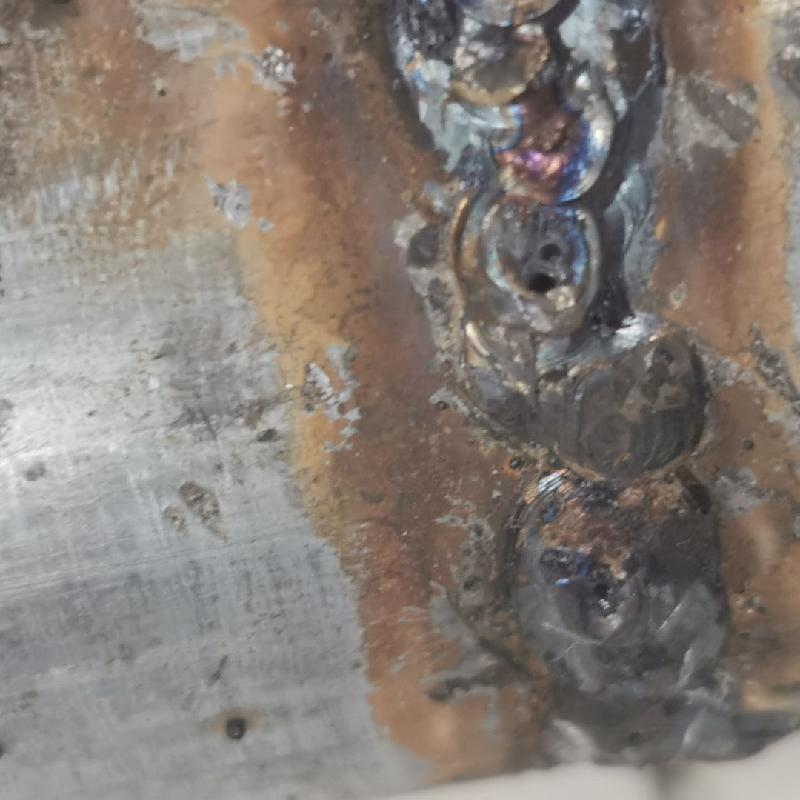Surface_pores: (513, 233, 577, 296), (564, 557, 630, 615)
crater: (383, 0, 648, 334)
wrong_size: (470, 343, 763, 763)
